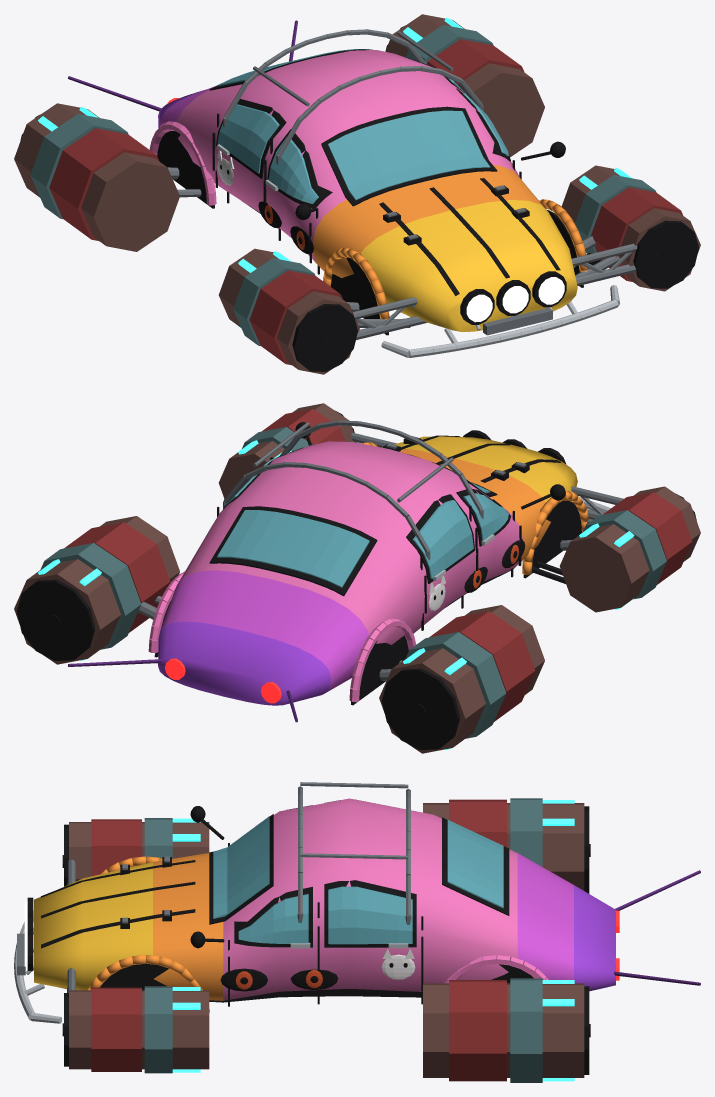
Rendered from flyning-retro-car.glb.
3 renders of one model, top to bottom at view 1: azimuth 30°, elevation 25°; view 2: azimuth 150°, elevation 25°; view 3: azimuth 270°, elevation 25°, orthographic.
Parts seen in each view (by area): view 1: Auto_PodOxido, Auto_Negro, Auto_PinturaRosa, Auto_PinturaAmarilla, Auto_Vidrio, Auto_PodRojoOxido, Auto_PinturaNaranja, Auto_AceroGris, Auto_PodAceroTeal, Auto_Cromo, Auto_Faro, Auto_RosaDetalle (+1 smaller); view 2: Auto_PinturaRosa, Auto_Negro, Auto_PodOxido, Auto_PodRojoOxido, Auto_PinturaMagenta, Auto_Vidrio, Auto_PinturaMorada, Auto_PodAceroTeal, Auto_AceroGris, Auto_PinturaNaranja, Auto_PinturaAmarilla, Auto_RosaDetalle (+2 smaller); view 3: Auto_PinturaRosa, Auto_PodOxido, Auto_PodRojoOxido, Auto_Vidrio, Auto_Negro, Auto_PinturaAmarilla, Auto_PodAceroTeal, Auto_PinturaNaranja, Auto_PinturaMagenta, Auto_PinturaMorada, Auto_AceroGris, Auto_NeonCyan (+5 smaller).
Part boxes in pixels (x1,y1,x2,y2): Auto_PodOxido: [14, 14, 700, 374]; Auto_Negro: [20, 26, 698, 371]; Auto_PinturaRosa: [176, 50, 520, 261]; Auto_PinturaAmarilla: [361, 200, 577, 331]; Auto_Vidrio: [217, 49, 508, 203]; Auto_PodRojoOxido: [49, 39, 682, 365]; Auto_PinturaNaranja: [313, 165, 588, 319]; Auto_AceroGris: [167, 29, 637, 339]; Auto_PodAceroTeal: [30, 25, 656, 346]; Auto_Cromo: [217, 144, 619, 357]; Auto_Faro: [466, 277, 564, 322]; Auto_RosaDetalle: [149, 121, 216, 205]; Auto_PinturaRosa: [177, 441, 522, 644]; Auto_Negro: [17, 411, 696, 749]; Auto_PodOxido: [14, 403, 700, 753]; Auto_PodRojoOxido: [64, 408, 692, 721]; Auto_PinturaMagenta: [161, 570, 368, 693]; Auto_Vidrio: [217, 453, 508, 587]; Auto_PinturaMorada: [158, 621, 331, 705]; Auto_PodAceroTeal: [40, 427, 666, 738]; Auto_AceroGris: [138, 420, 623, 680]; Auto_PinturaNaranja: [362, 442, 588, 574]; Auto_PinturaAmarilla: [382, 436, 577, 502]; Auto_RosaDetalle: [148, 571, 416, 702]; Auto_PinturaRosa: [223, 798, 517, 1000]; Auto_PodOxido: [69, 803, 584, 1077]; Auto_PodRojoOxido: [91, 799, 506, 1081]; Auto_Vidrio: [213, 816, 503, 944]; Auto_Negro: [27, 800, 590, 1074]; Auto_PinturaAmarilla: [34, 862, 152, 990]; Auto_PodAceroTeal: [144, 798, 542, 1082]; Auto_PinturaNaranja: [88, 853, 223, 1012]; Auto_PinturaMagenta: [517, 853, 573, 979]; Auto_PinturaMorada: [574, 885, 615, 991]; Auto_AceroGris: [17, 782, 411, 992]; Auto_NeonCyan: [172, 800, 574, 1081].
Size of the model in its own units: 3.83 by 1.48 by 4.9.
